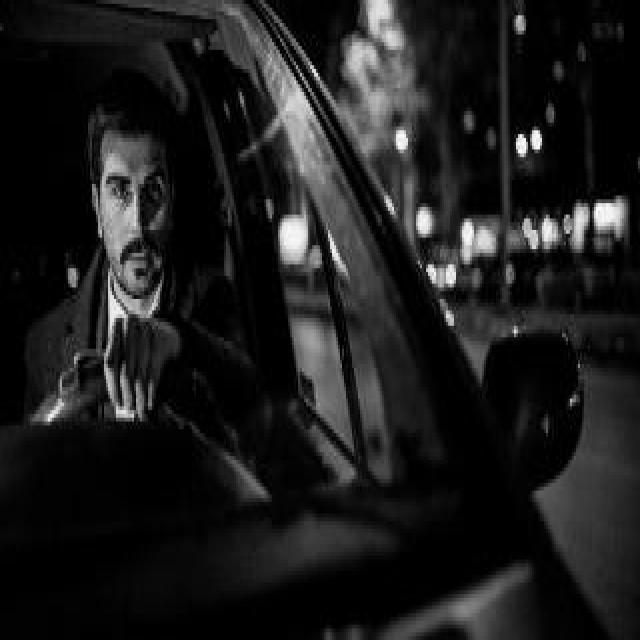Focused: (87, 129, 180, 284)
